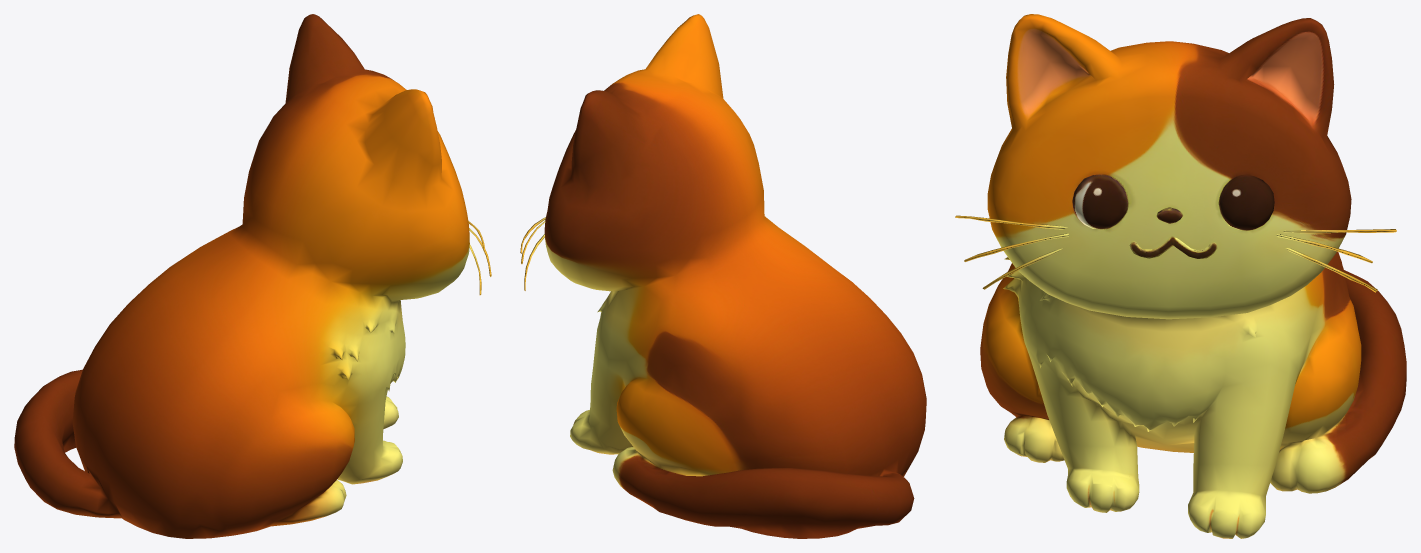
File: cat.glb
3 views of the same model, side by side, from view 1: azimuth 30°, elevation 25°; view 2: azimuth 150°, elevation 25°; view 3: azimuth 270°, elevation 25° (orthographic). The views are drawn at different scales.
Visible parts, largest first — view 1: tripo_node_6a835219-04e6-4933-b4fd-251f72073adc; view 2: tripo_node_6a835219-04e6-4933-b4fd-251f72073adc; view 3: tripo_node_6a835219-04e6-4933-b4fd-251f72073adc.
Part boxes in pixels (box(x1,y1,x2,y2)): tripo_node_6a835219-04e6-4933-b4fd-251f72073adc: box(14, 14, 491, 538); tripo_node_6a835219-04e6-4933-b4fd-251f72073adc: box(520, 14, 926, 538); tripo_node_6a835219-04e6-4933-b4fd-251f72073adc: box(955, 14, 1406, 538).
Size of the model in its own units: 0.9551 by 0.998 by 0.8145.
Materials: 1 (1 with a texture image).
